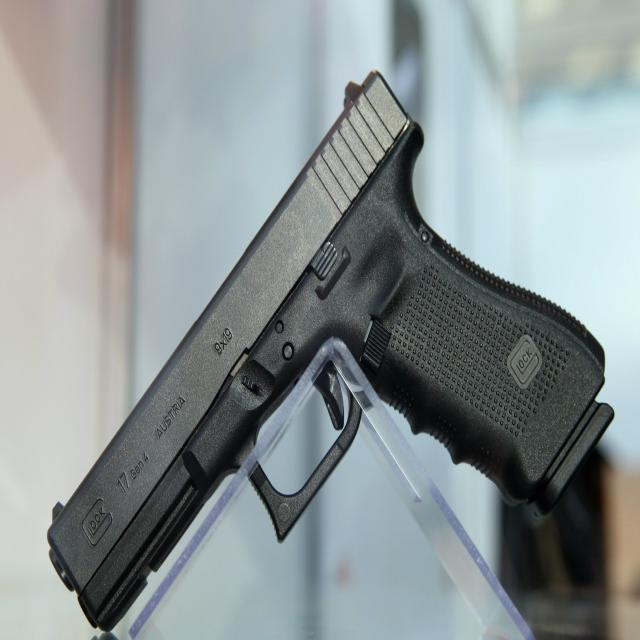pistol: (46, 66, 615, 633)
